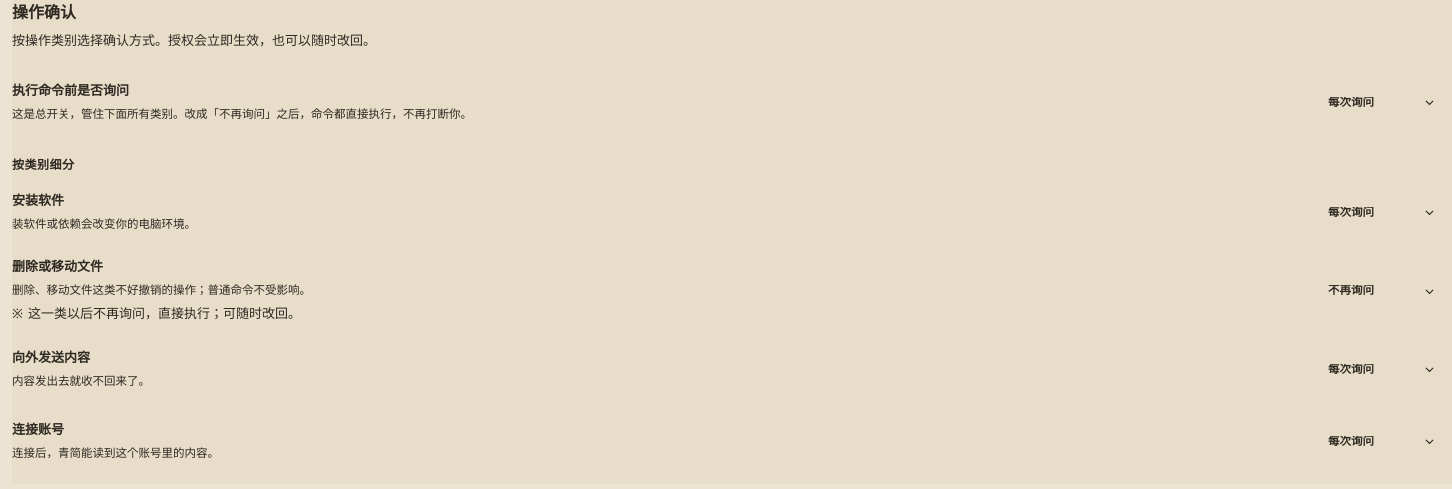
Scenario: SecurityPanel › 未走过确认卡也能直接选不再询问并显示生效语义
Click the dropdown labelled "每次询问" in the row of "装软件或依赖会改变你的电脑环境。" at x=1382, y=212, box [1318, 196, 1446, 228]
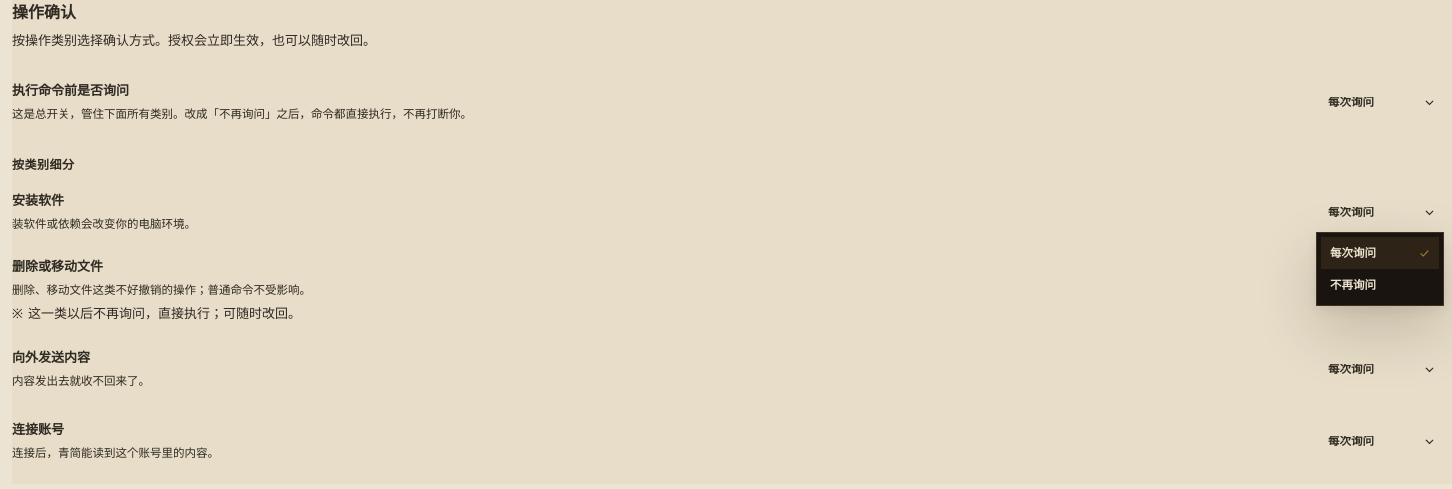
Now the option "不再询问" is shown
Click the option "不再询问" at x=1380, y=286, box [1321, 270, 1439, 302]
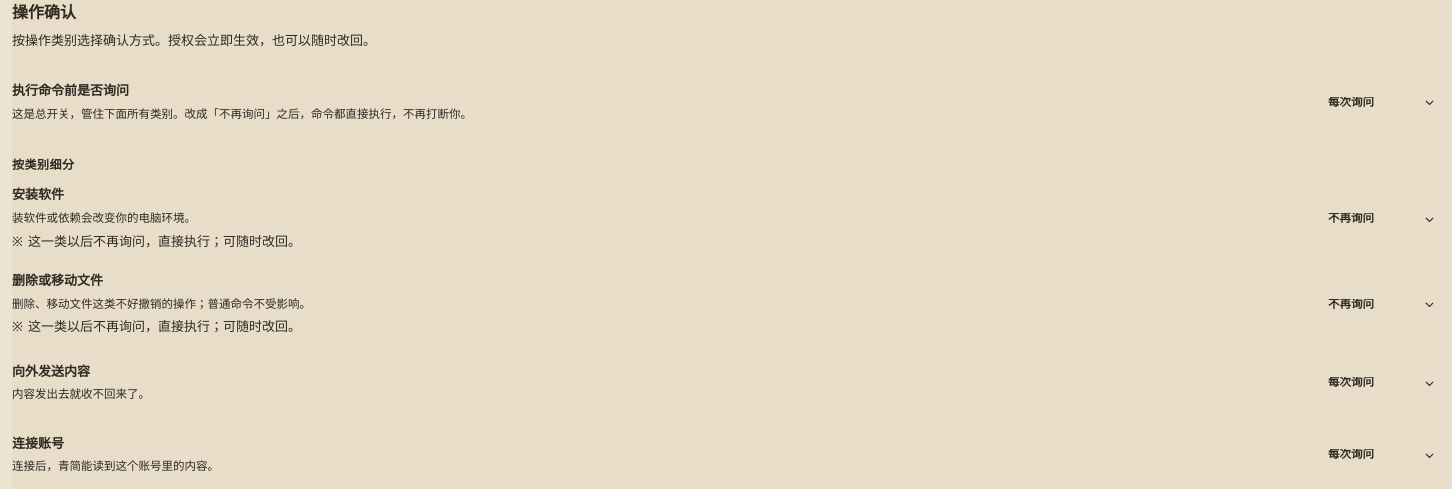
Now the dropdown labelled "不再询问" in the row of "装软件或依赖会改变你的电脑环境。" is shown, box [1318, 203, 1446, 235]
Now the text with id "security-install-effect" reads "这一类以后不再询问，直接执行；可随时改回。", box [28, 234, 301, 249]
